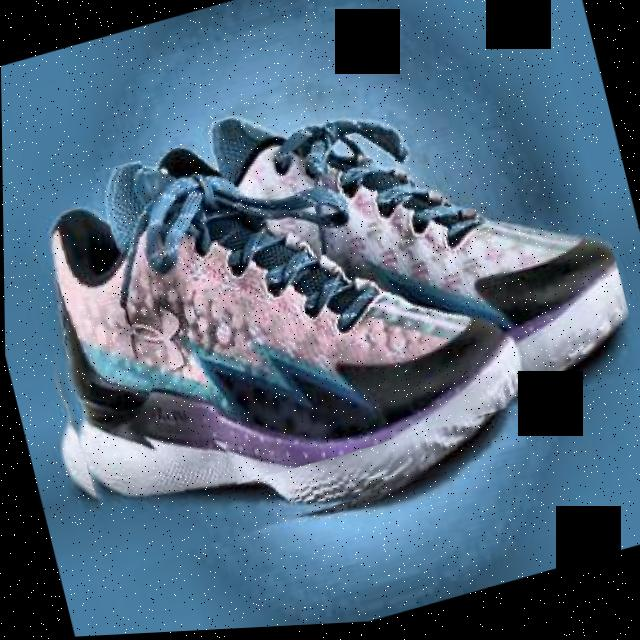shoe: (1, 76, 530, 584), (133, 26, 640, 494)
